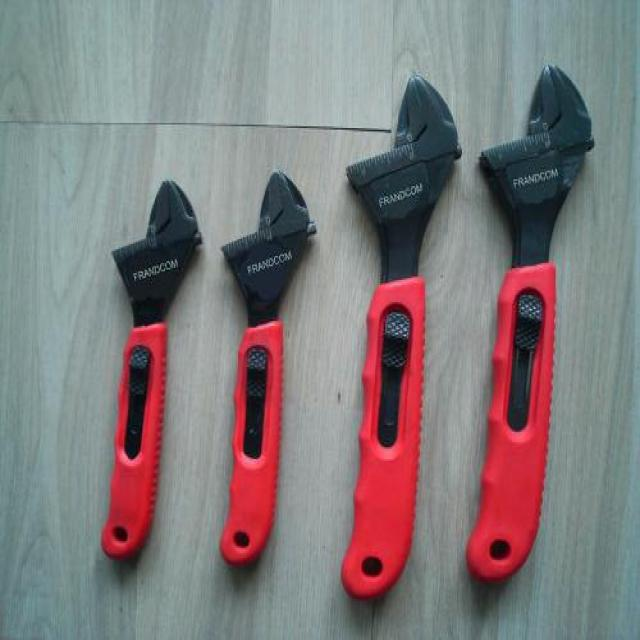wrench: (326, 55, 480, 572), (477, 45, 604, 588), (208, 165, 326, 581), (90, 182, 199, 557)
